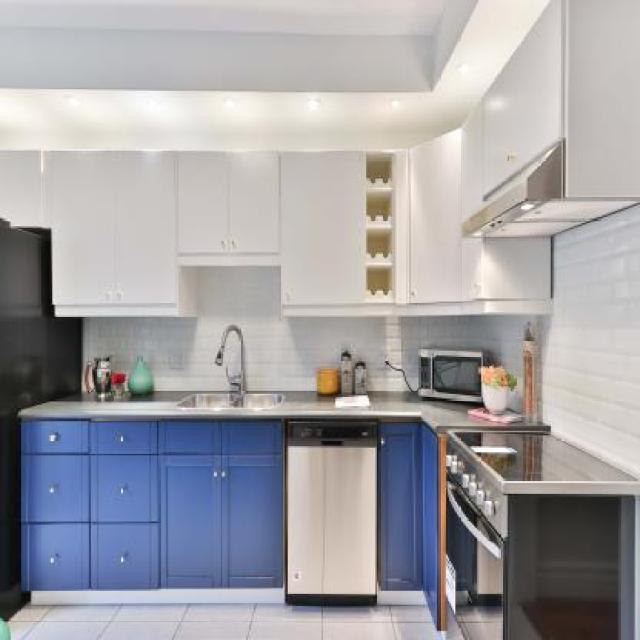floor: (10, 602, 445, 640), (454, 600, 504, 640)
